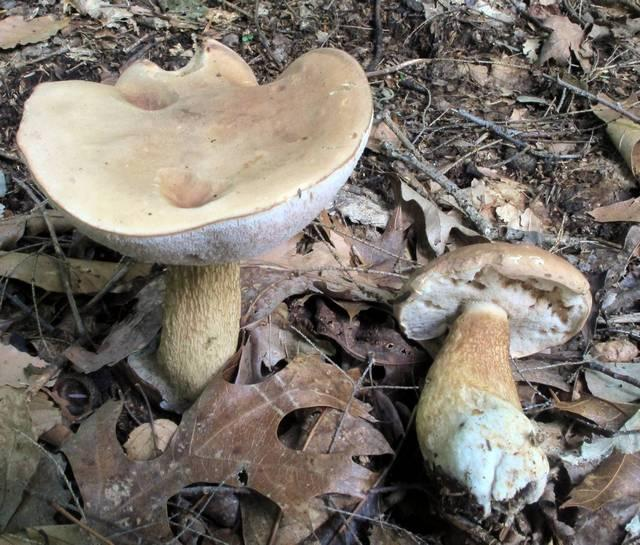Non-edible Mushroom: (14, 35, 374, 413), (392, 239, 593, 529)
